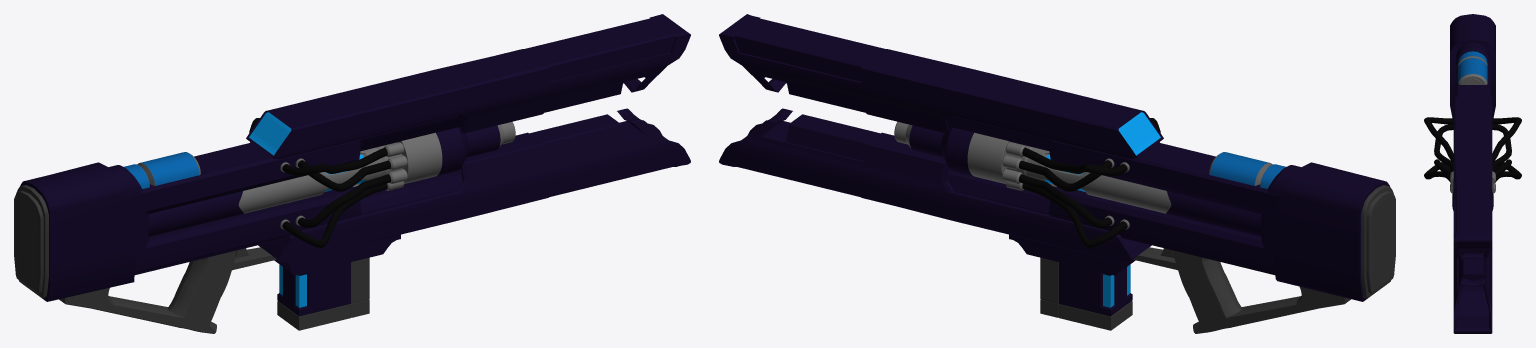
File: LaserGun.fbx
The picture shows the model from 3 angles, left to right: view 1: azimuth 30°, elevation 25°; view 2: azimuth 150°, elevation 25°; view 3: azimuth 270°, elevation 25°; orthographic projection. The views are drawn at different scales.
Visible parts, largest first — view 1: LaserGun; view 2: LaserGun; view 3: LaserGun.
Part boxes in pixels (x1,y1,x2,y2): LaserGun: [14, 14, 690, 333]; LaserGun: [719, 14, 1395, 333]; LaserGun: [1424, 14, 1521, 333].
Bounding box in the file's own units: 17.44 × 5.26 × 3.12.
